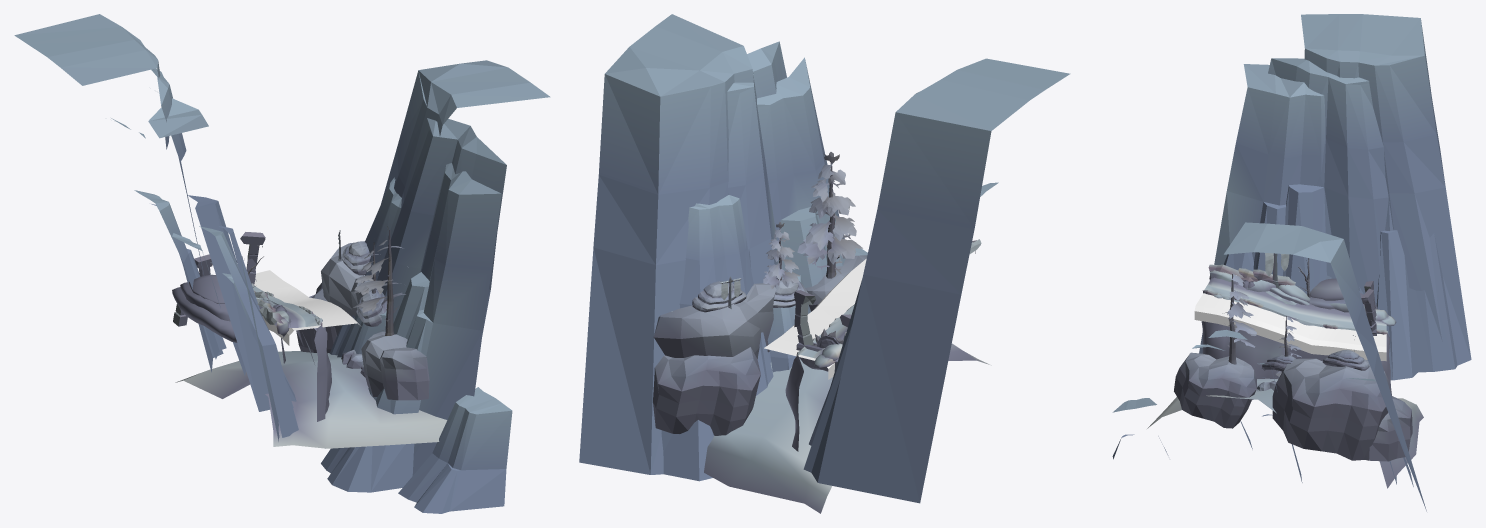
Rendered from Arctic_Narrows_Right_Curve_Right_15_B_Jump_B.glb.
3 views of the same model, side by side, from view 1: azimuth 30°, elevation 25°; view 2: azimuth 150°, elevation 25°; view 3: azimuth 270°, elevation 25° (orthographic). The views are drawn at different scales.
Parts seen in each view (by area): view 1: Arctic_Narrows_Left_IceWall_A02 (1), Arctic_Narrows_Right_IceWall_A02 (1), Arctic_Narrows_Right_Curve_Right_15_B, Arctic_Narrows_Left_IceWall_A02_Right, Arctic_Narrows_Left_IceWall_A02_Mid, Arctic_Narrows_SnowRock_A01 (2), Arctic_Narrows_Right_IceWall_A02_Left, inv_fill, Arctic_Narrows_Left_IceWall_A02_Left, Arctic_Narrows_SnowRock_A01, Arctic_Narrows_Right_IceWall_A02_Mid, Arctic_Narrows_Left_Snow_A01 (+5 smaller); view 2: Arctic_Narrows_Left_IceWall_A02 (1), Arctic_Narrows_Right_IceWall_A02 (1), Arctic_Narrows_Right_Curve_Right_15_B, Arctic_Narrows_Left_IceWall_A02_Left, Arctic_Narrows_SnowRock_A01 (1), Arctic_Narrows_SnowRock_A01, Arctic_Pine_F_leavesBottom (×2), inv_fill, Arctic_Pine_F_leavesTop, Arctic_Narrows_Left_IceWall_A02_Mid, Arctic_Narrows_Right_IceWall_A02_Right, Arctic_Narrows_SnowRock_A01 (2); view 3: Arctic_Narrows_Right_IceWall_A02 (1), Arctic_Narrows_SnowRock_A01, Arctic_Narrows_Right_Curve_Right_15_B, Arctic_Narrows_Right_IceWall_A02_Right, Arctic_Narrows_Left_IceWall_A02 (1), Arctic_Narrows_SnowRock_A01 (2), inv_fill, Arctic_Narrows_SnowRock_A01 (1), Arctic_Narrows_Left_Snow_A01_Top, Arctic_Narrows_Right_IceWall_A02_Left, Arctic_Pine_F_leavesTop.
Boxes of the visible parts, bbox=[...] form: Arctic_Narrows_Left_IceWall_A02 (1): bbox=[377, 60, 550, 475]; Arctic_Narrows_Right_IceWall_A02 (1): bbox=[14, 14, 293, 441]; Arctic_Narrows_Right_Curve_Right_15_B: bbox=[175, 274, 447, 448]; Arctic_Narrows_Left_IceWall_A02_Right: bbox=[398, 387, 512, 513]; Arctic_Narrows_Left_IceWall_A02_Mid: bbox=[321, 308, 420, 492]; Arctic_Narrows_SnowRock_A01 (2): bbox=[361, 331, 429, 400]; Arctic_Narrows_Right_IceWall_A02_Left: bbox=[199, 226, 298, 437]; inv_fill: bbox=[254, 270, 360, 345]; Arctic_Narrows_Left_IceWall_A02_Left: bbox=[329, 177, 401, 355]; Arctic_Narrows_SnowRock_A01: bbox=[321, 241, 377, 336]; Arctic_Narrows_Right_IceWall_A02_Mid: bbox=[134, 190, 246, 375]; Arctic_Narrows_Left_Snow_A01: bbox=[172, 287, 237, 342]; Arctic_Narrows_Left_IceWall_A02 (1): bbox=[579, 14, 845, 474]; Arctic_Narrows_Right_IceWall_A02 (1): bbox=[811, 58, 1070, 503]; Arctic_Narrows_Right_Curve_Right_15_B: bbox=[704, 251, 991, 513]; Arctic_Narrows_Left_IceWall_A02_Left: bbox=[661, 195, 773, 481]; Arctic_Narrows_SnowRock_A01 (1): bbox=[653, 347, 760, 435]; Arctic_Narrows_SnowRock_A01: bbox=[653, 283, 776, 358]; Arctic_Pine_F_leavesBottom (×2): bbox=[763, 214, 862, 289]; inv_fill: bbox=[764, 258, 866, 379]; Arctic_Pine_F_leavesTop: bbox=[809, 152, 855, 218]; Arctic_Narrows_Left_IceWall_A02_Mid: bbox=[767, 275, 810, 372]; Arctic_Narrows_Right_IceWall_A02_Right: bbox=[803, 326, 851, 472]; Arctic_Narrows_SnowRock_A01 (2): bbox=[805, 255, 867, 311]; Arctic_Narrows_Right_IceWall_A02 (1): bbox=[1199, 14, 1471, 365]; Arctic_Narrows_SnowRock_A01: bbox=[1272, 358, 1392, 460]; Arctic_Narrows_Right_Curve_Right_15_B: bbox=[1147, 270, 1423, 488]; Arctic_Narrows_Right_IceWall_A02_Right: bbox=[1376, 201, 1457, 380]; Arctic_Narrows_Left_IceWall_A02 (1): bbox=[1192, 222, 1426, 511]; Arctic_Narrows_SnowRock_A01 (2): bbox=[1174, 352, 1256, 428]; inv_fill: bbox=[1194, 293, 1386, 361]; Arctic_Narrows_SnowRock_A01 (1): bbox=[1363, 396, 1412, 461]; Arctic_Narrows_Left_Snow_A01_Top: bbox=[1310, 278, 1343, 300]; Arctic_Narrows_Right_IceWall_A02_Left: bbox=[1223, 252, 1253, 271]; Arctic_Pine_F_leavesTop: bbox=[1227, 273, 1249, 323].
Size of what is drawn, in the model's own units: 24.12 by 22.24 by 21.95.
